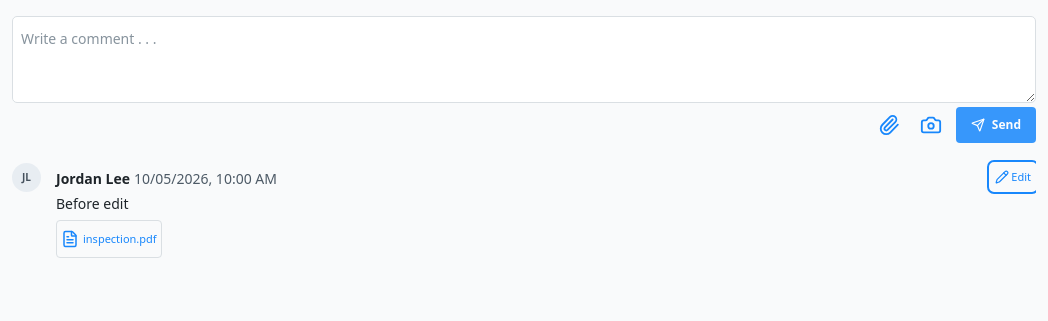
WorkOrderActivity › lets the author edit comment text, preserves attachments, and marks the result as edited
Click the button with aria-label "Edit comment". click: (1013, 177)
box: [990, 163, 1036, 191]
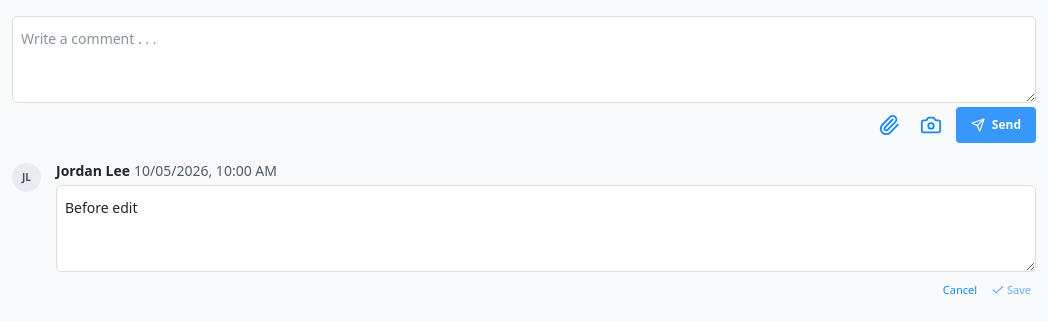
Replace the text in the text box named "Edit comment" with "After edit". click: (546, 229)
box: [56, 185, 1036, 272]
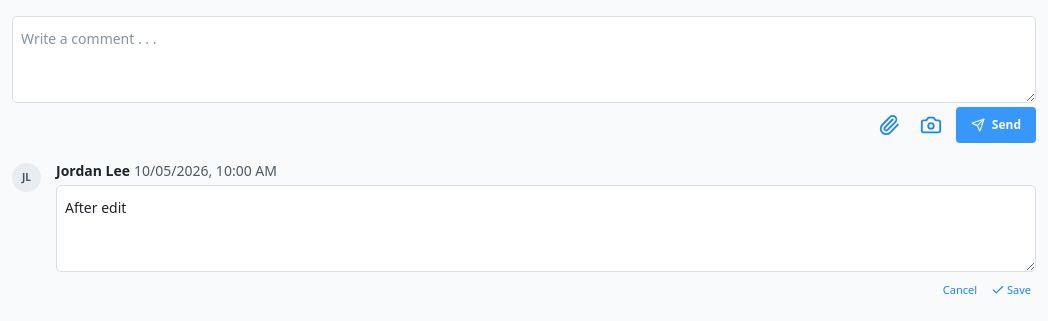
Click the button "Save". click: (1011, 290)
box: [986, 276, 1036, 304]
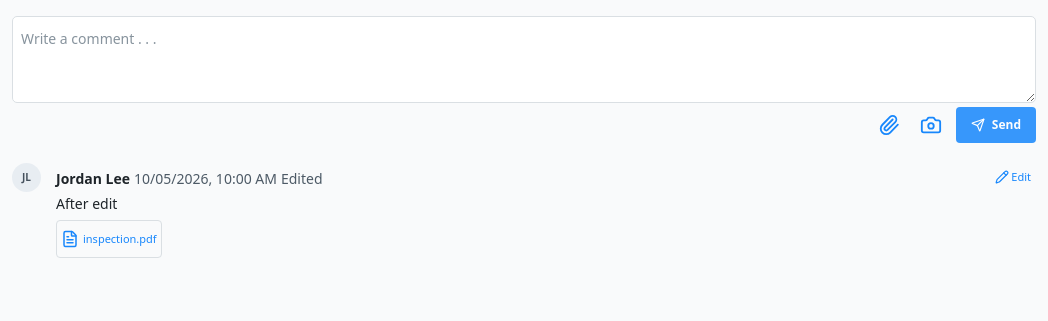
Expected: the text "After edit" is shown, [56, 194, 117, 213]
Expected: the text "Edited" is shown, [281, 171, 323, 188]
Expected: the text "inspection.pdf" is shown, [83, 231, 157, 248]
